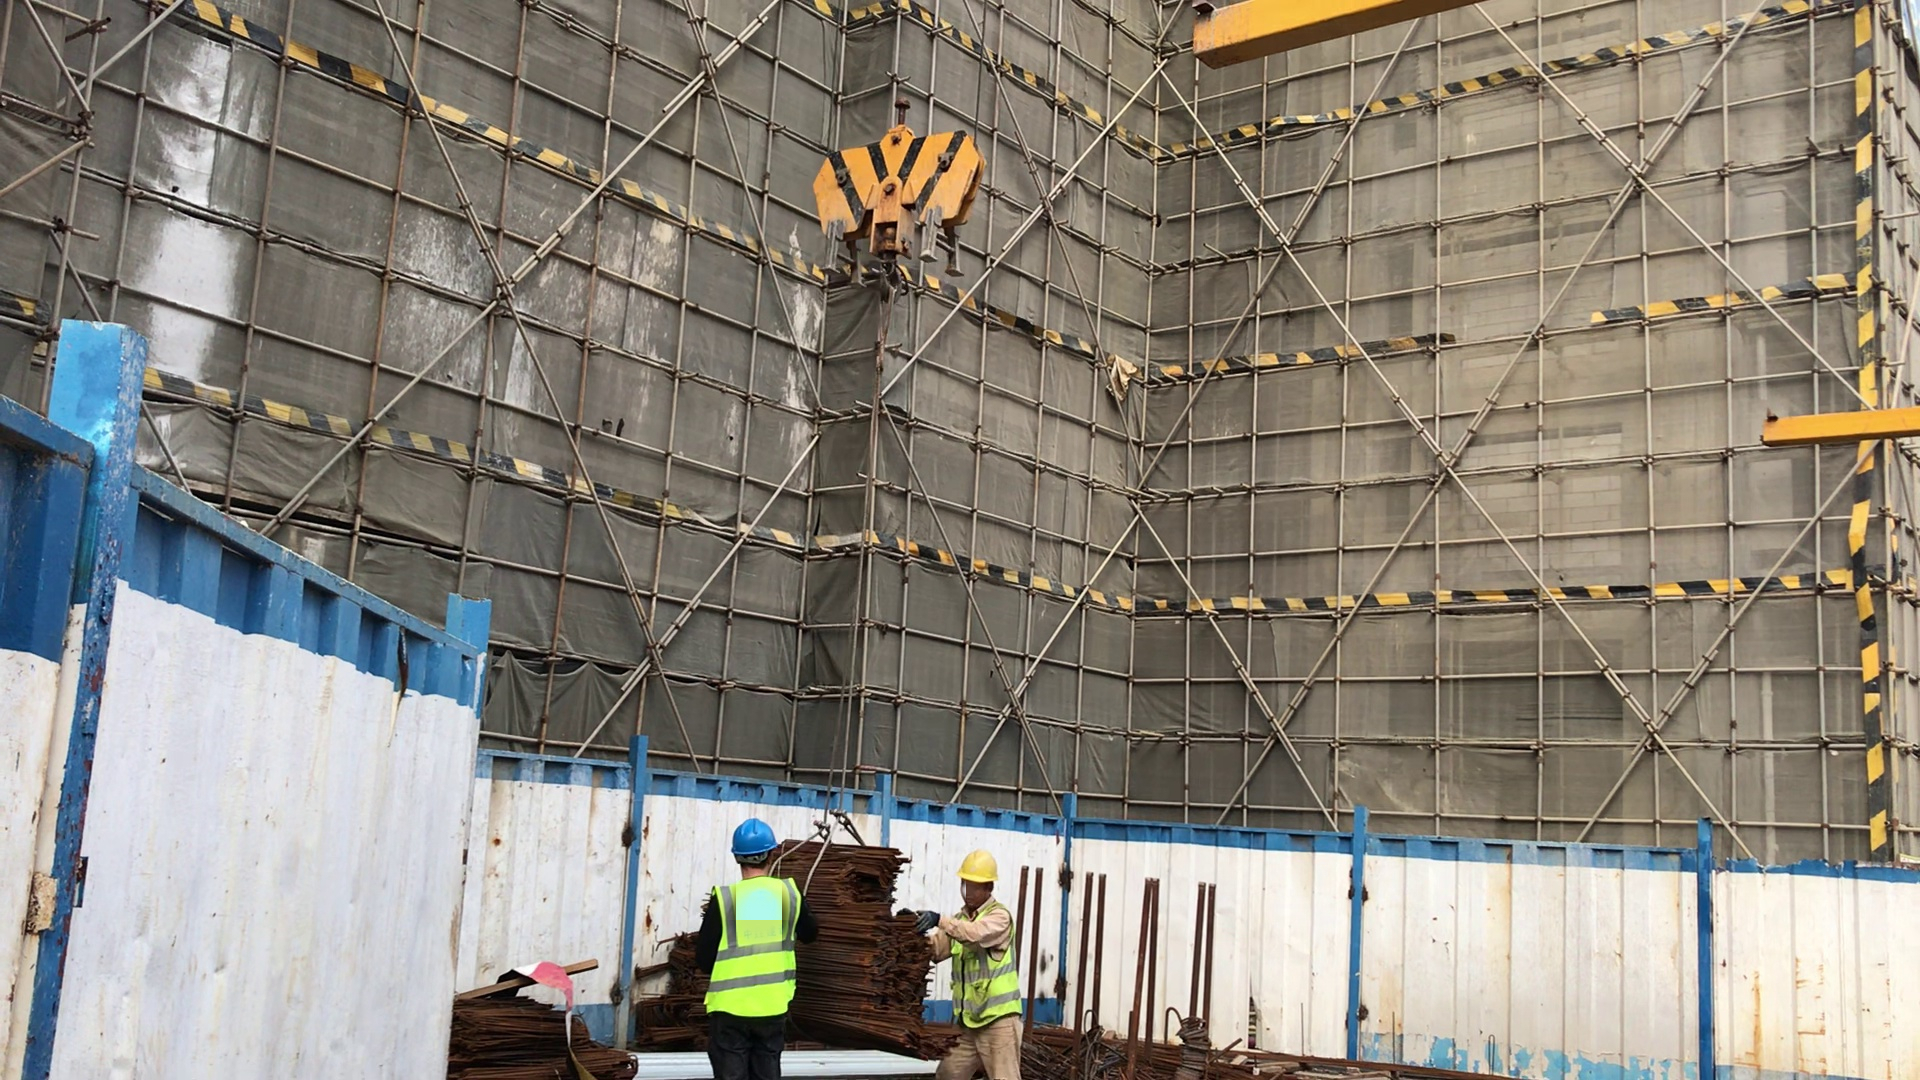helmet: (727, 821, 785, 863), (951, 854, 1003, 892)
hook: (806, 99, 991, 315)
person: (703, 818, 815, 1080), (918, 850, 1036, 1080)
vest: (704, 883, 799, 1016), (947, 904, 1021, 1028)
